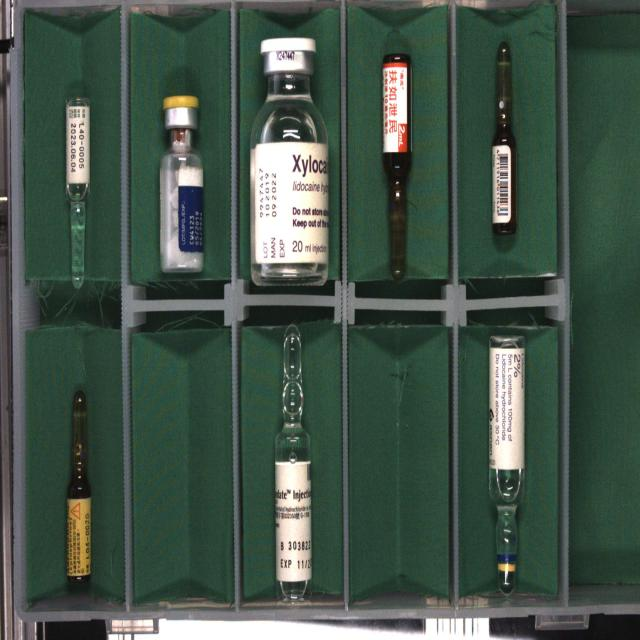Vials: (250, 37, 329, 284), (160, 95, 203, 273)
